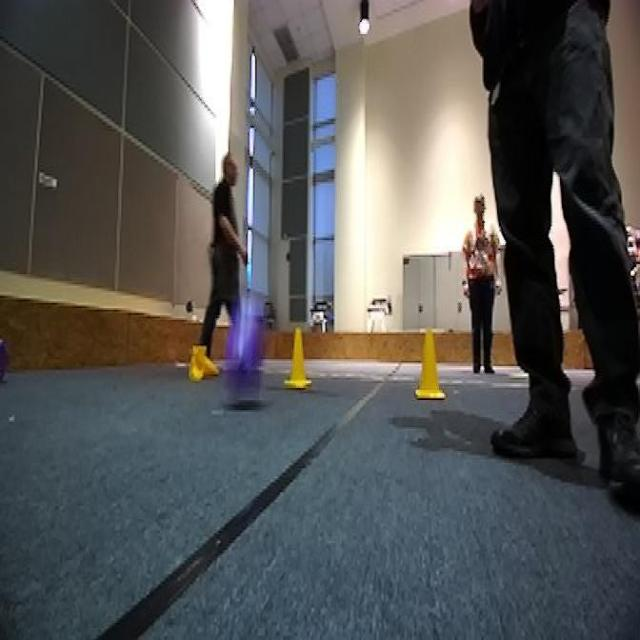frc_cone: (408, 328, 452, 398), (282, 328, 314, 386), (190, 351, 215, 381)
frc_cube: (217, 298, 268, 391), (0, 337, 10, 383)
